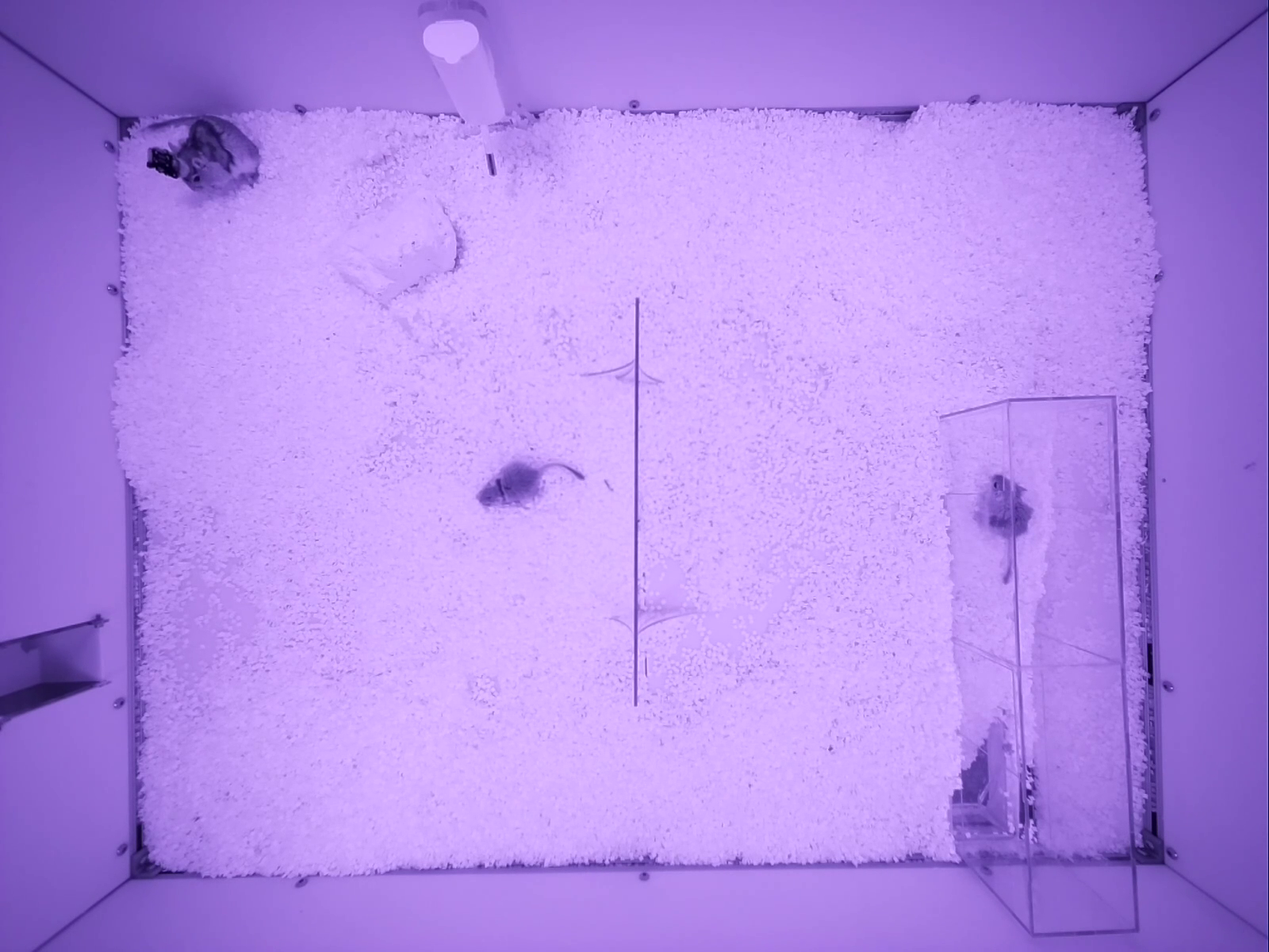adult_back: (148, 116, 259, 193), (980, 474, 1033, 583), (477, 461, 584, 506)
